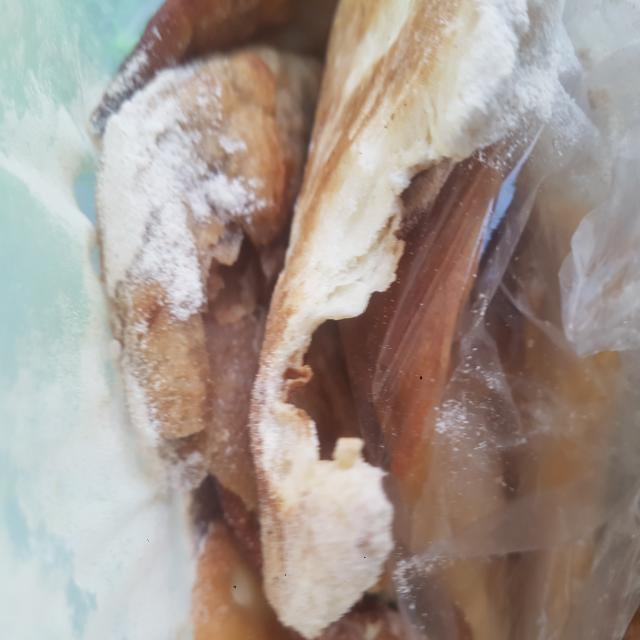paper: (114, 35, 445, 568)
